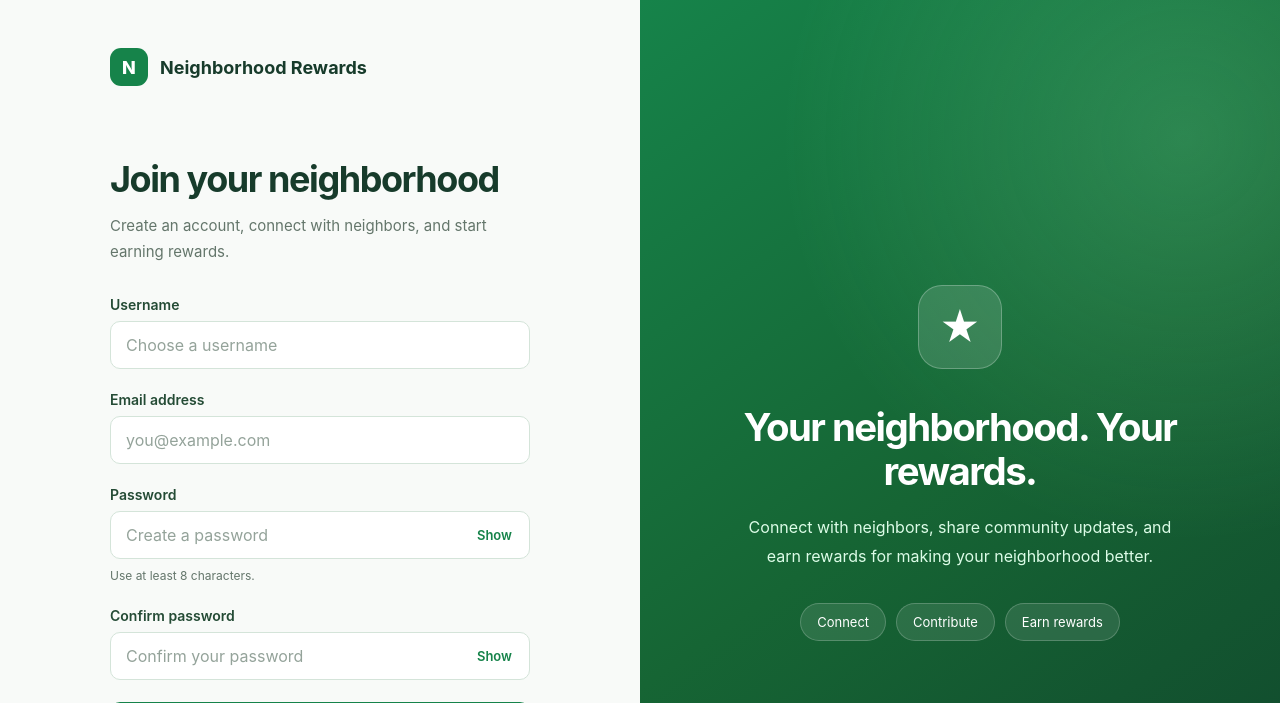
Test: Register Page › rejects an invalid email
Type "neighbor123" into the field labelled "Username" at {"x": 320, "y": 345}, box [110,321,530,369]
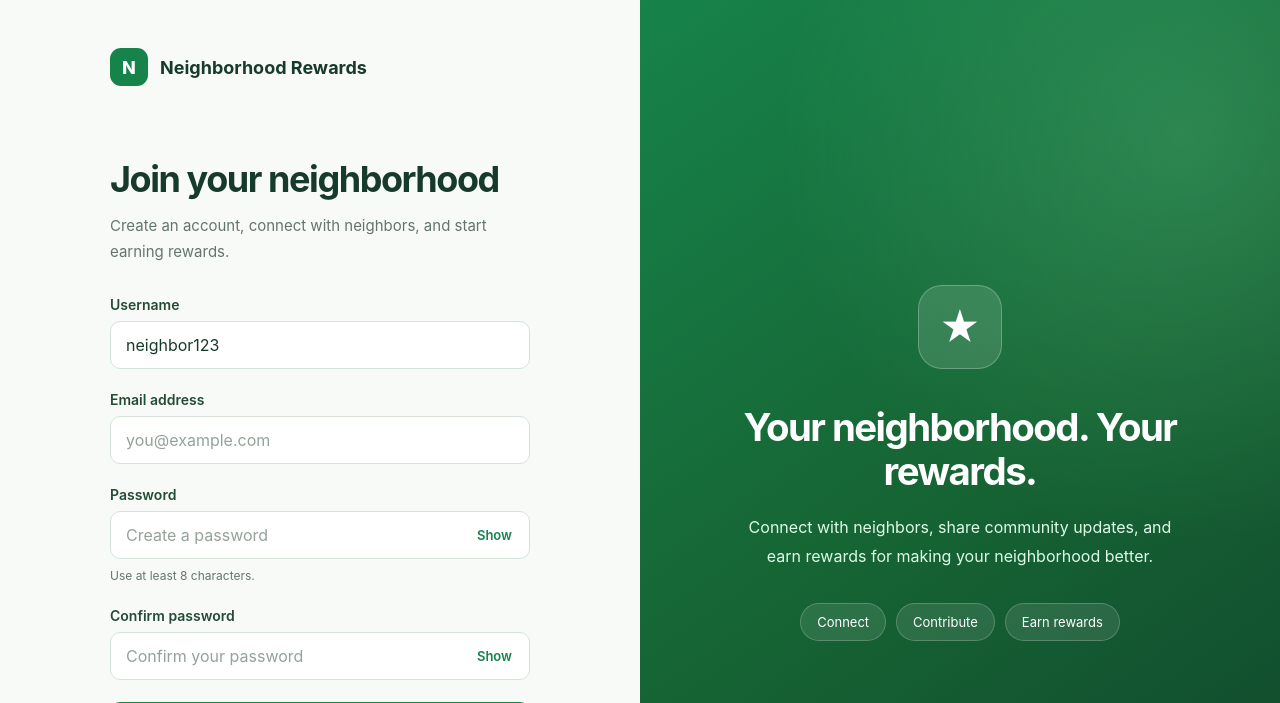
Type "neighbor@example.com" into the field labelled "Email address" at {"x": 320, "y": 440}, box [110,416,530,464]
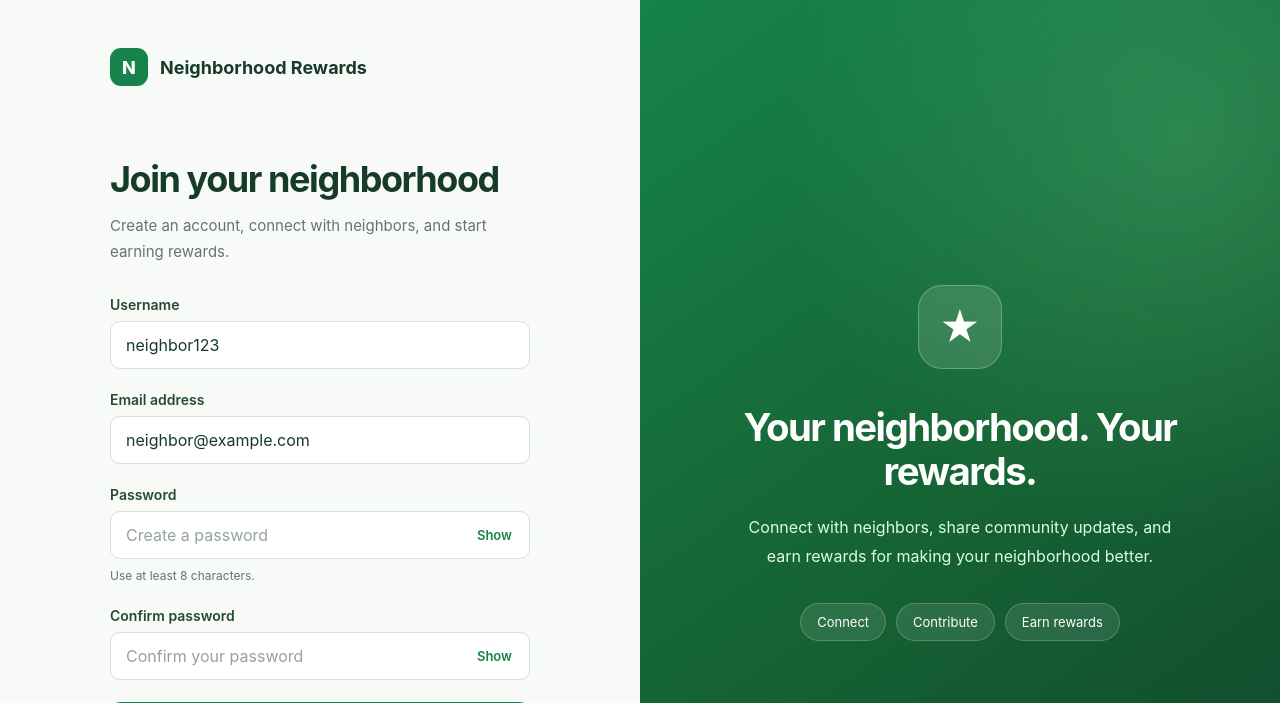
Type "SecurePassword123!" into the password field labelled "Password" at {"x": 320, "y": 535}, box [110,511,530,559]
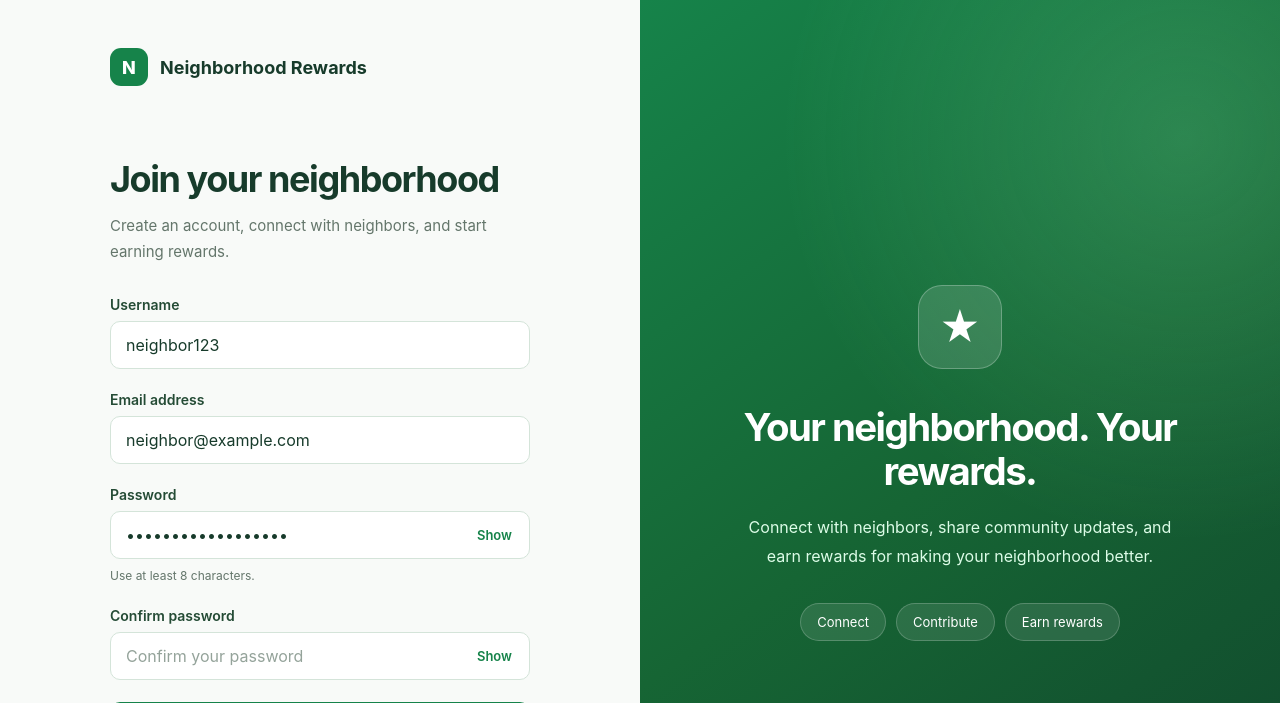
Type "SecurePassword123!" into the password field labelled "Confirm password" at {"x": 320, "y": 656}, box [110,632,530,680]
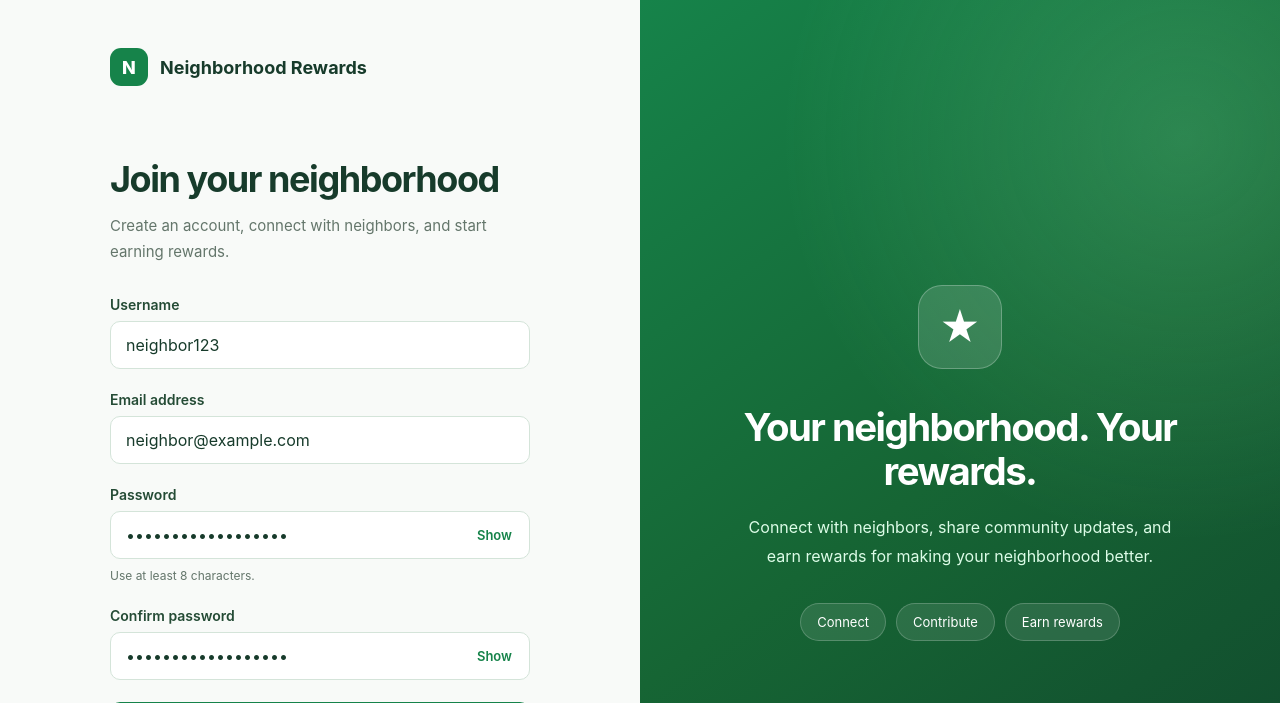
Replace the text in the field labelled "Email address" with "invalid-email" at {"x": 320, "y": 440}, box [110,416,530,464]
(page scrolled)
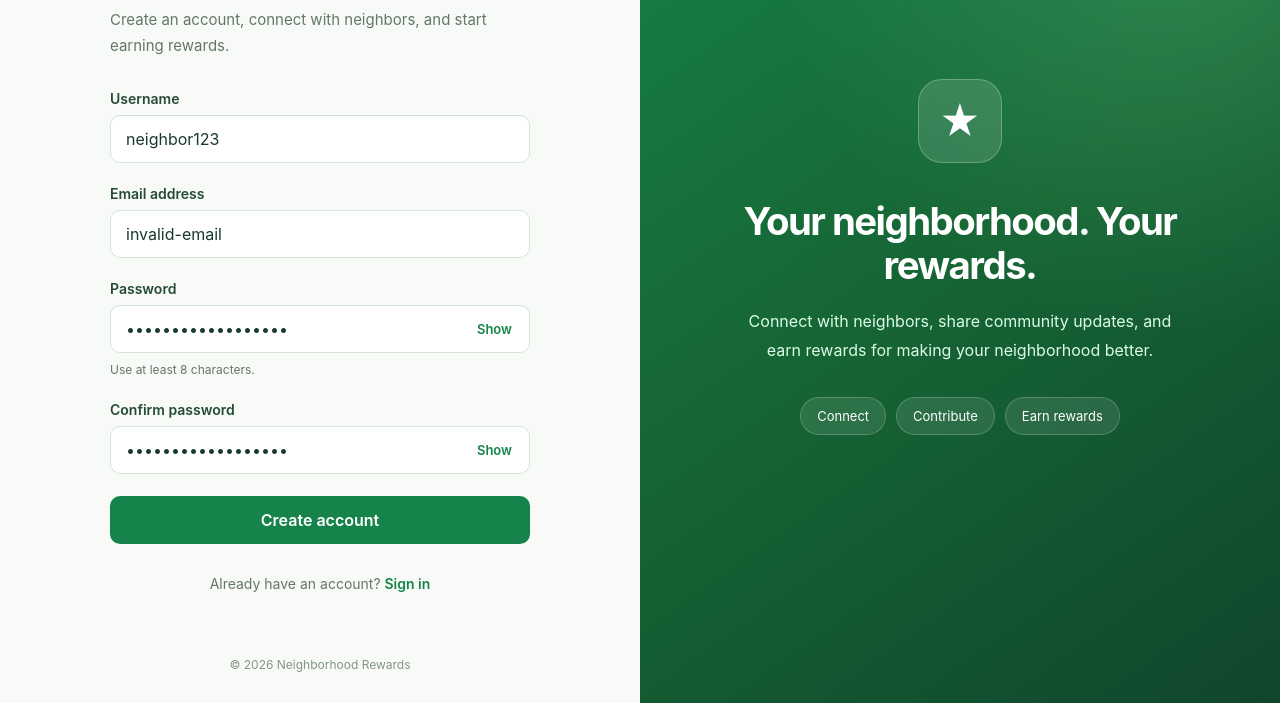
Click the button "Create account" at {"x": 320, "y": 520}, box [110,496,530,544]
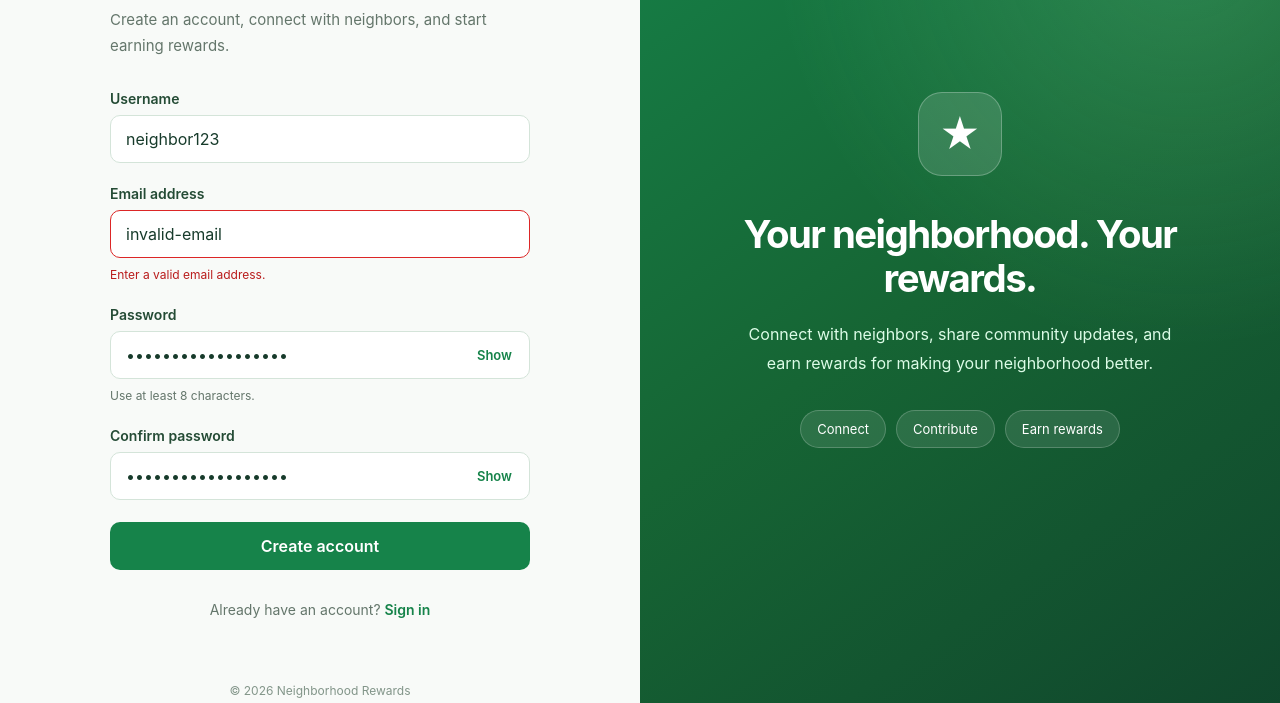
Expected: the text "Enter a valid email address." is shown, [110,267,265,282]
